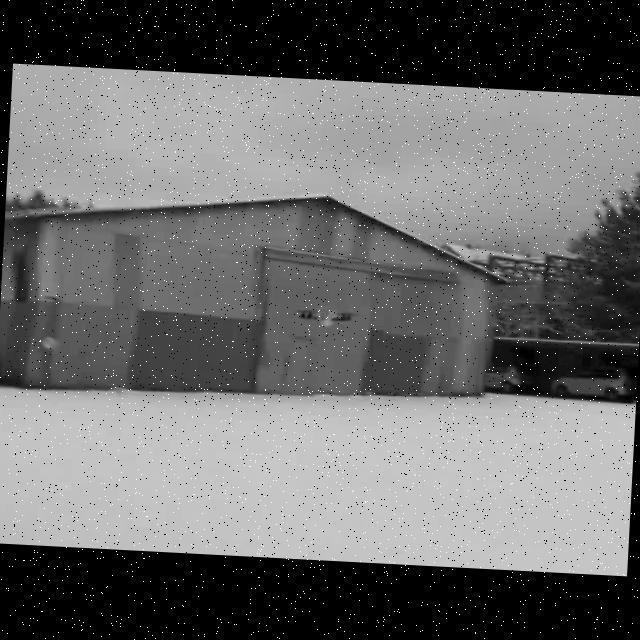Drons: (286, 298, 358, 336)
